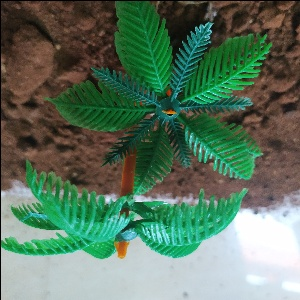plant: (49, 6, 267, 185), (7, 163, 267, 272)
